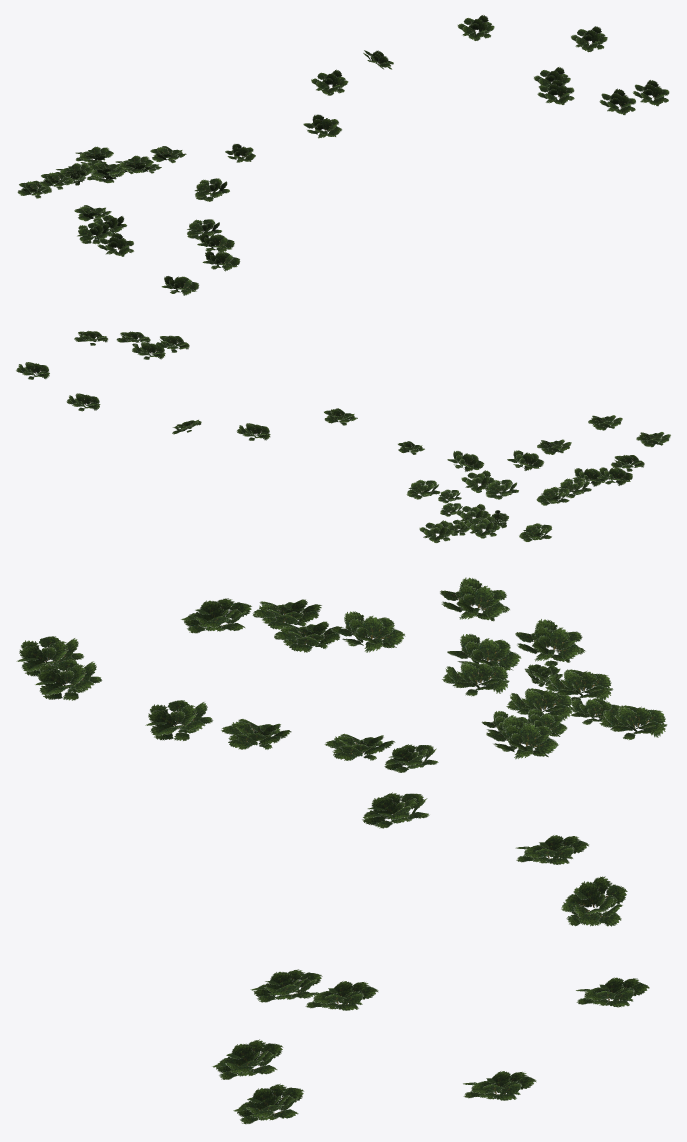
The model's file is Folliage_Block_2.FBX.
3 views of the same model, one above another, from view 1: azimuth 30°, elevation 25°; view 2: azimuth 150°, elevation 25°; view 3: azimuth 270°, elevation 25° (orthographic). The views are drawn at different scales.
Parts seen in each view (by area): view 1: Plane180; view 2: Plane180; view 3: Plane180.
Boxes of the visible parts, left/top/right/bottom form: Plane180: left=17, top=15, right=669, bottom=295; Plane180: left=16, top=330, right=670, bottom=543; Plane180: left=16, top=577, right=667, bottom=1124.
Bounding box in the file's own units: 587 × 53.63 × 303.
